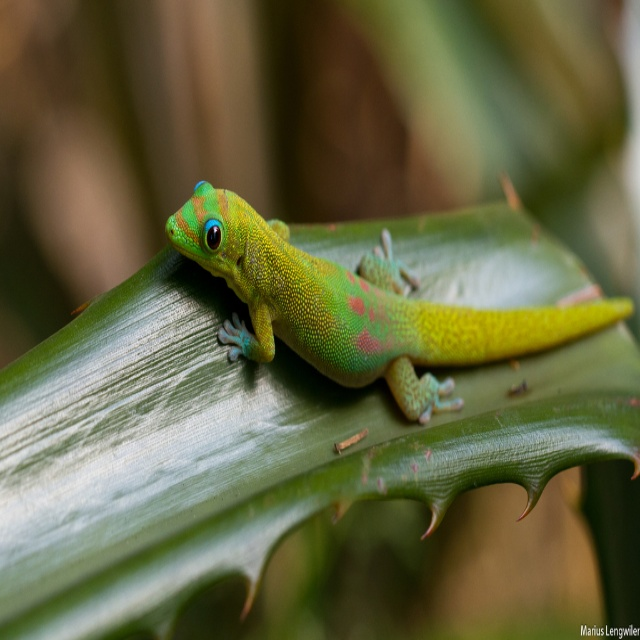Lizard: (165, 181, 635, 424)
